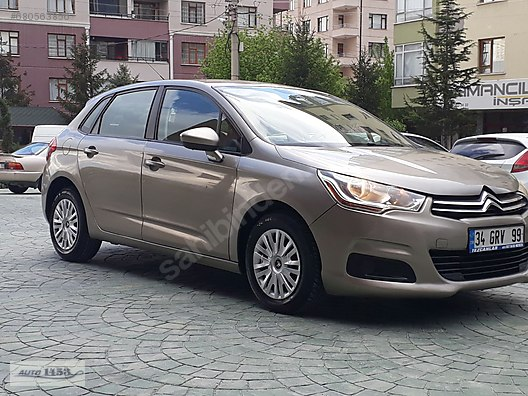c: (35, 69, 528, 332)
